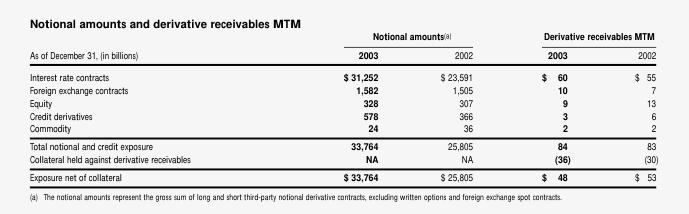table: (28, 28, 657, 183)
table column: (28, 28, 266, 183), (266, 28, 408, 183), (408, 28, 506, 183), (506, 28, 601, 183), (601, 28, 657, 183)
table column header: (28, 28, 657, 65)
table row: (28, 44, 657, 65), (28, 65, 657, 82), (28, 28, 657, 44), (28, 136, 657, 152), (28, 167, 657, 183), (28, 121, 657, 136), (28, 152, 657, 167), (28, 82, 657, 95), (28, 95, 657, 108), (28, 108, 657, 121)
table spanning cell: (28, 28, 266, 65), (266, 28, 506, 44), (506, 28, 657, 44)
